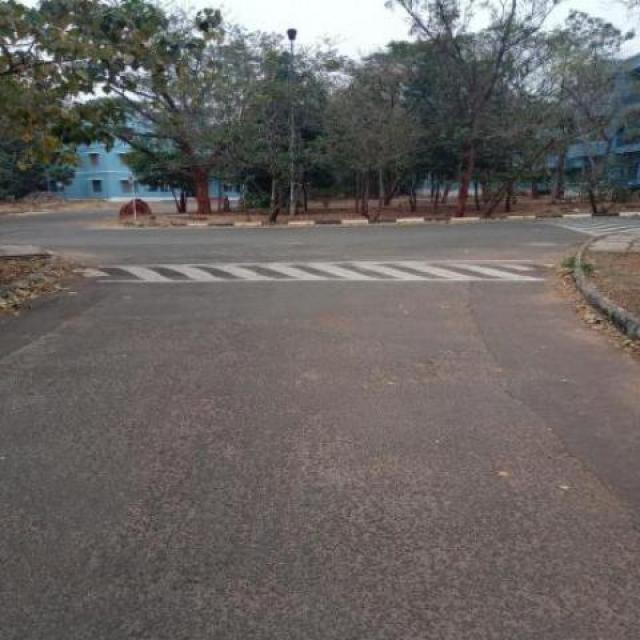Speed Bump: (60, 258, 571, 281)
